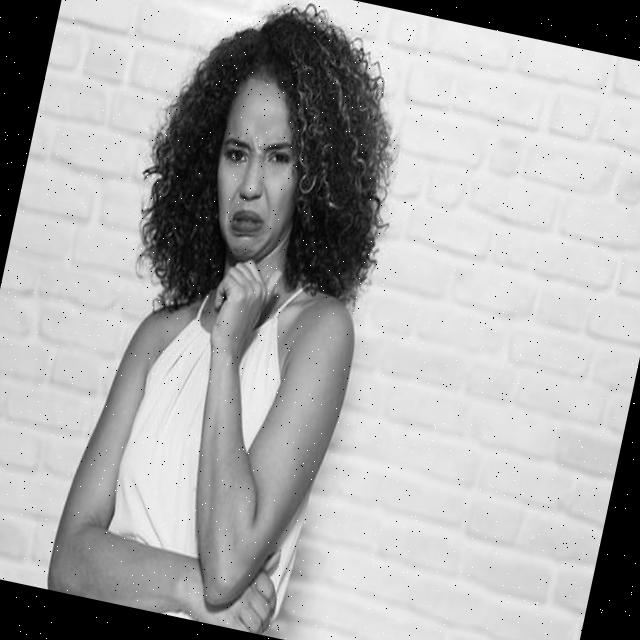Disgust: (198, 67, 318, 266)
